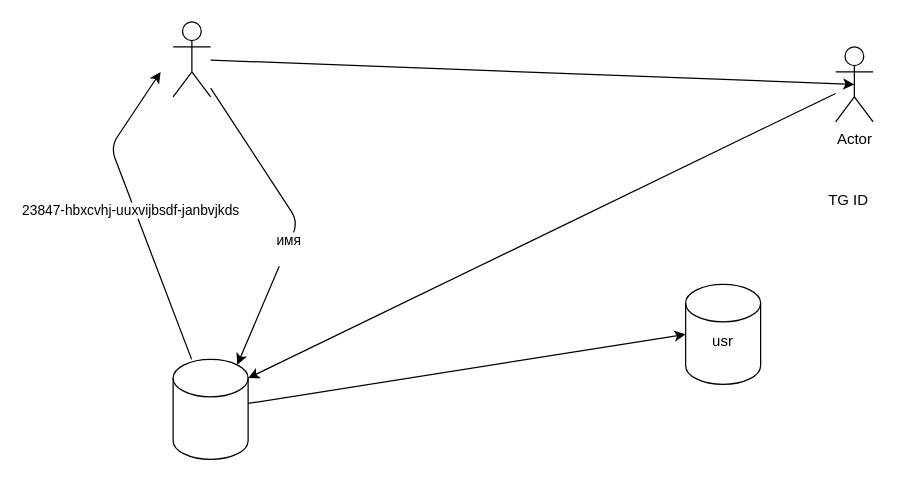
Image size: 908x481. Some labels were removed from this diagram. Here are the shapes that lost their labels. From the top down, the centre of each, then its label:
the point at 191,59: Admin
the point at 210,408: pas
